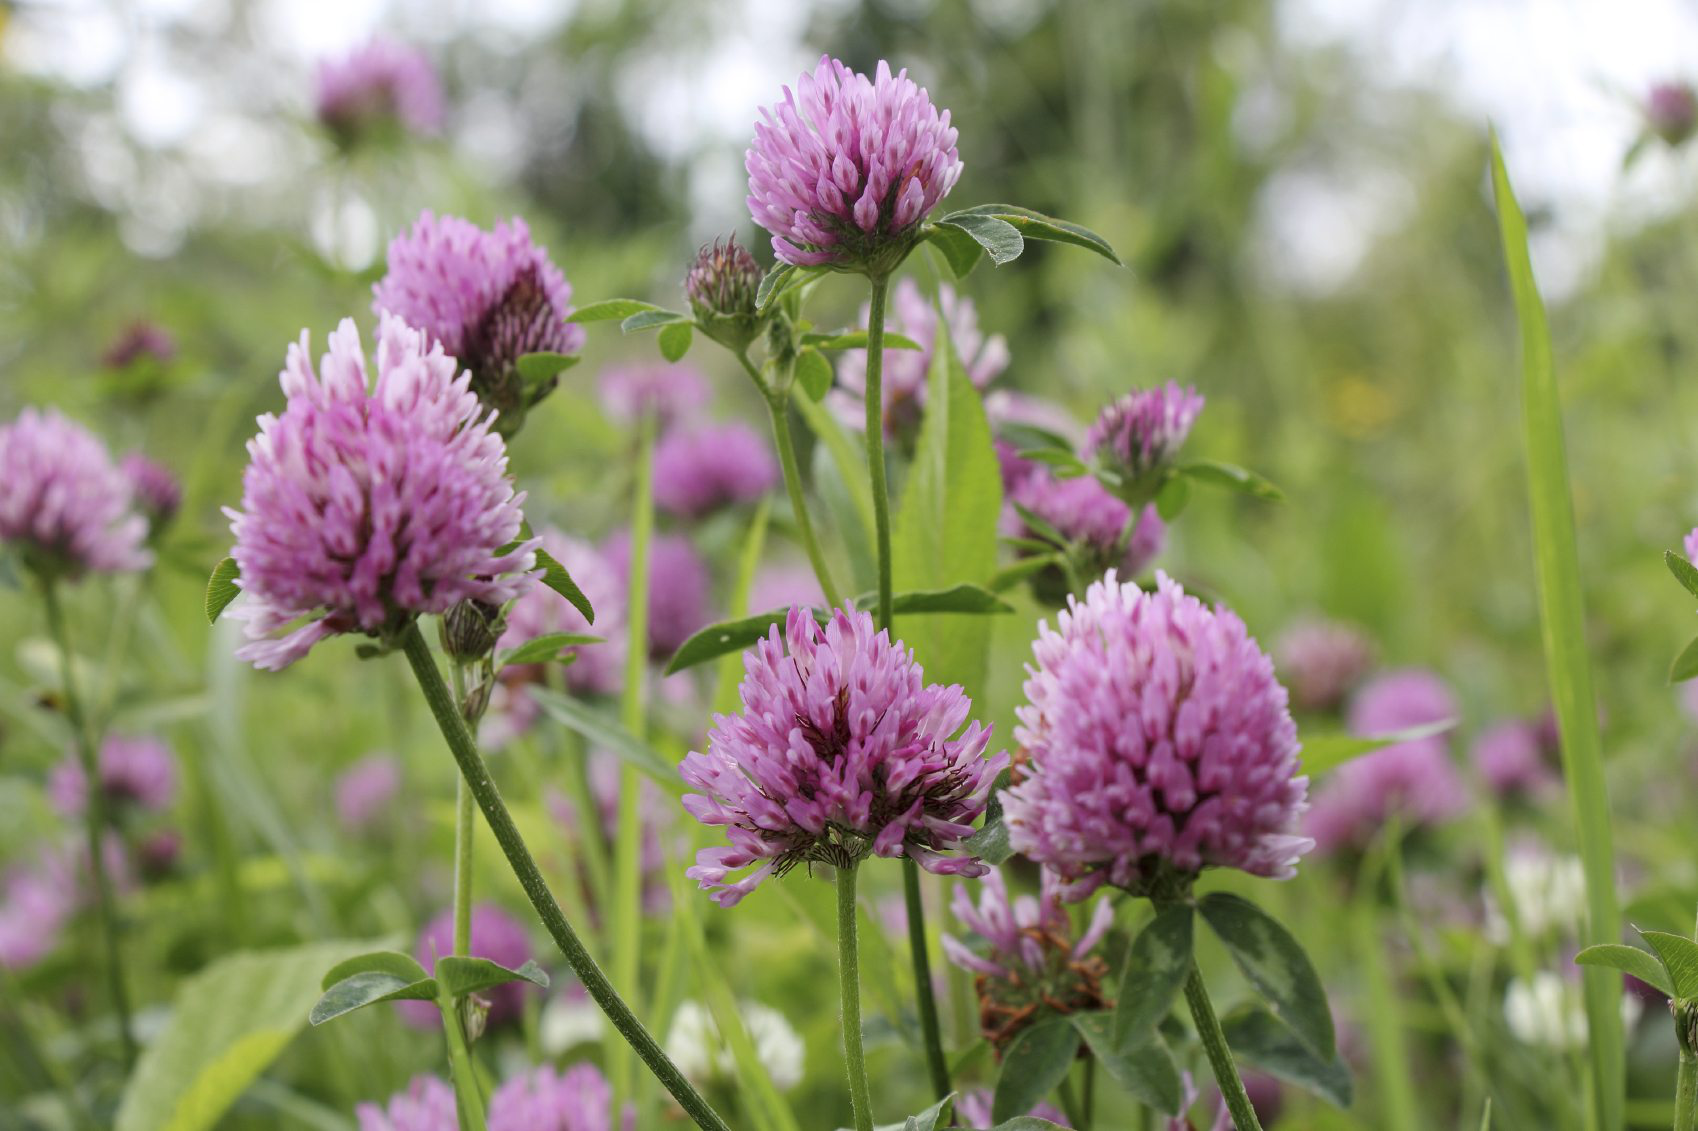clover: (109, 28, 1372, 985)
